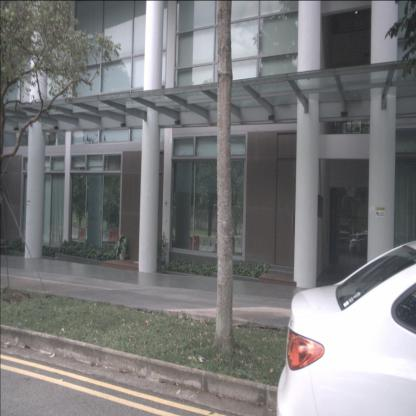vehicle-car: (275, 239, 416, 416)
